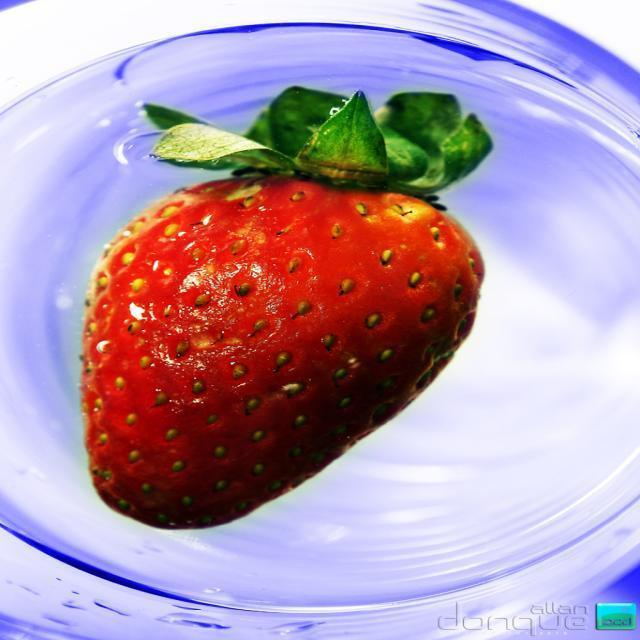Strawberry: (78, 86, 491, 530)
